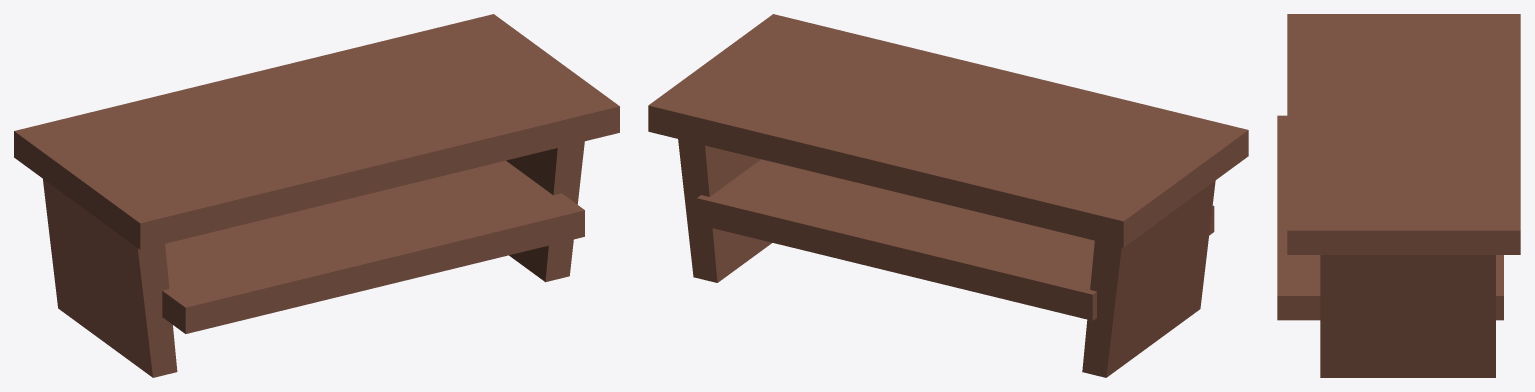
The model's file is Shelf for shoes.fbx.
3 views of the same model, side by side, from view 1: azimuth 30°, elevation 25°; view 2: azimuth 150°, elevation 25°; view 3: azimuth 270°, elevation 25° (orthographic). The views are drawn at different scales.
Parts seen in each view (by area): view 1: Shelf for shoes; view 2: Shelf for shoes; view 3: Shelf for shoes.
Part boxes in pixels (bbox=[...]): Shelf for shoes: bbox=[14, 14, 619, 377]; Shelf for shoes: bbox=[648, 14, 1248, 377]; Shelf for shoes: bbox=[1277, 14, 1520, 377].
Size of the model in its own units: 244 by 85.1 by 116.
